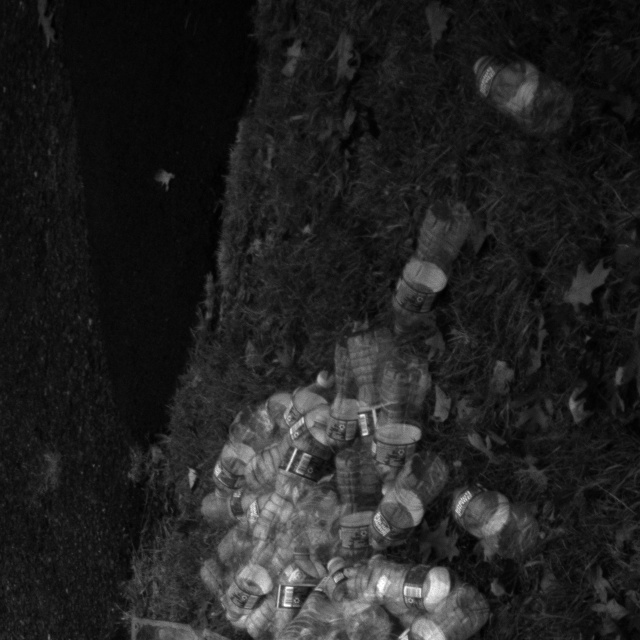bottle: (196, 355, 320, 502), (426, 44, 589, 139), (360, 324, 450, 492), (381, 204, 484, 340), (236, 402, 346, 529), (342, 538, 469, 636), (303, 469, 458, 542), (345, 304, 402, 490), (448, 472, 553, 548), (376, 583, 508, 640), (262, 542, 331, 640)
